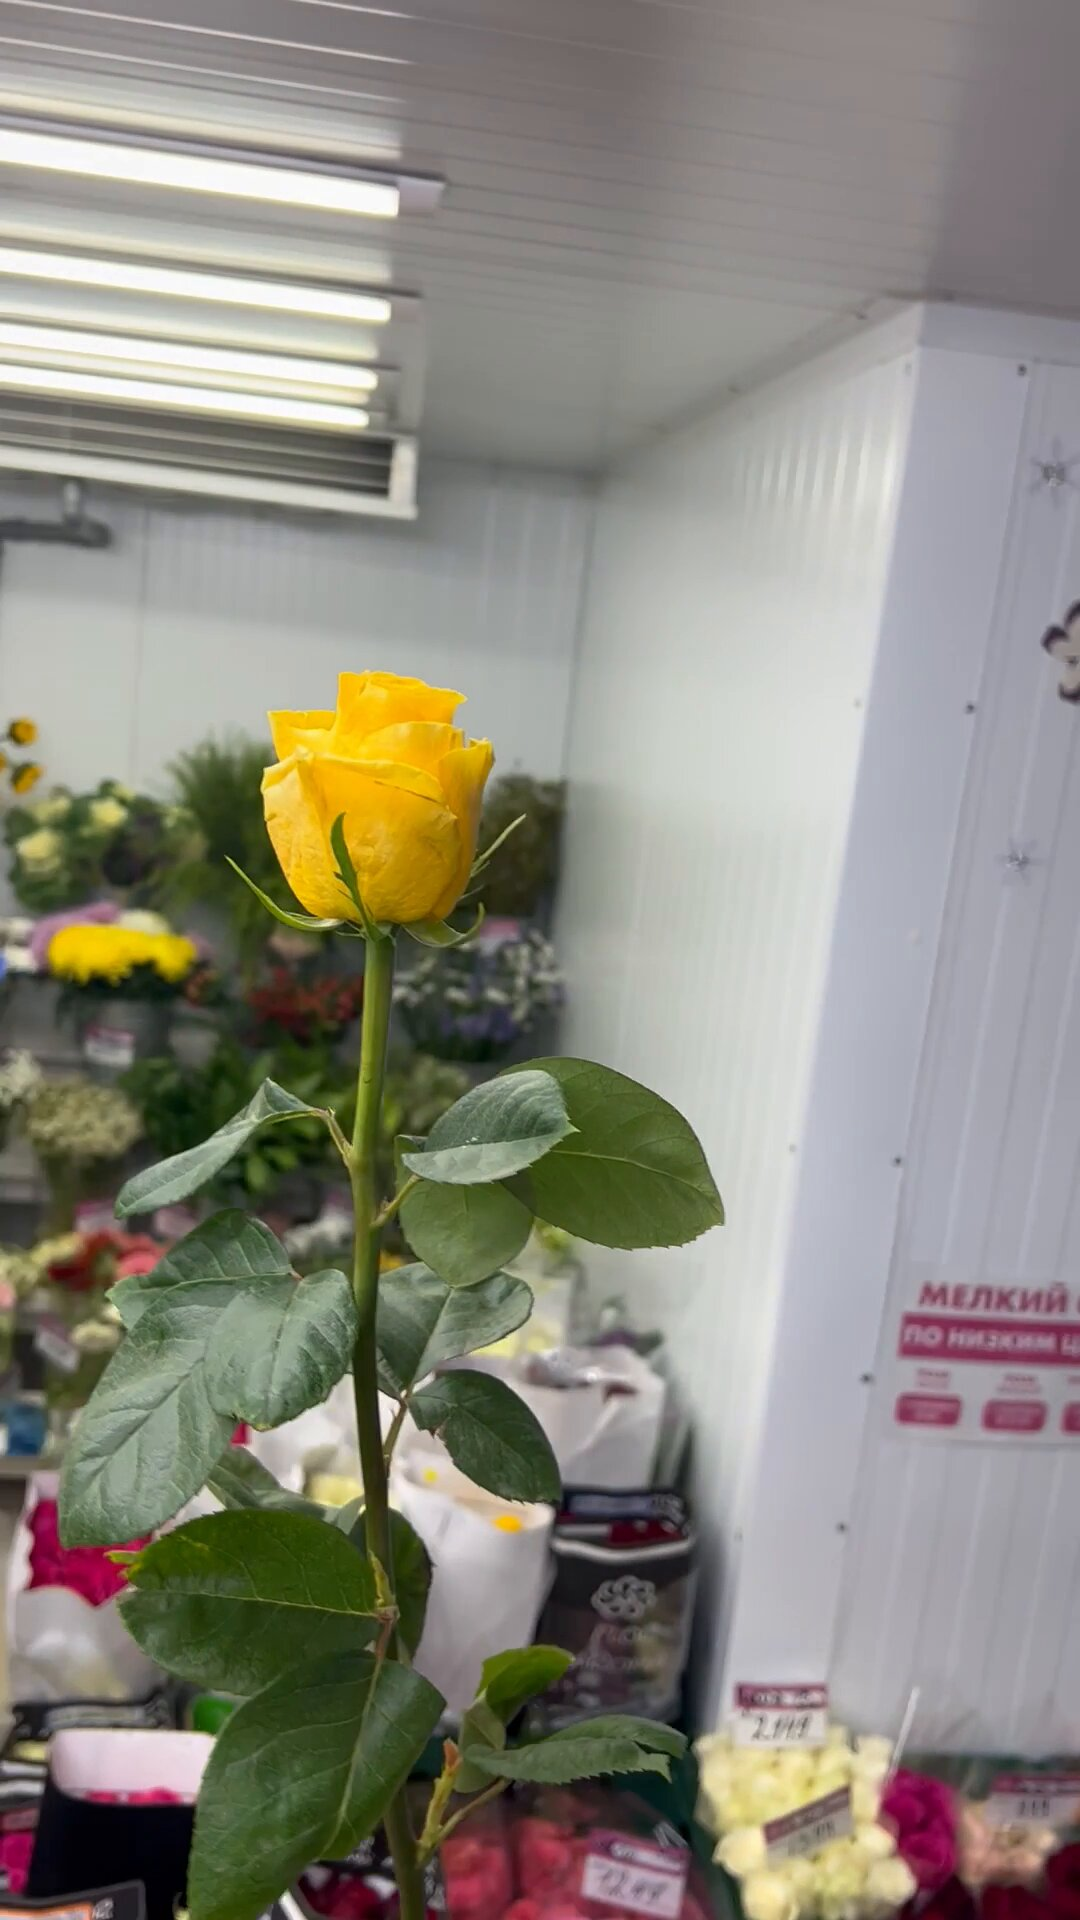rose: (100, 673, 673, 1920)
